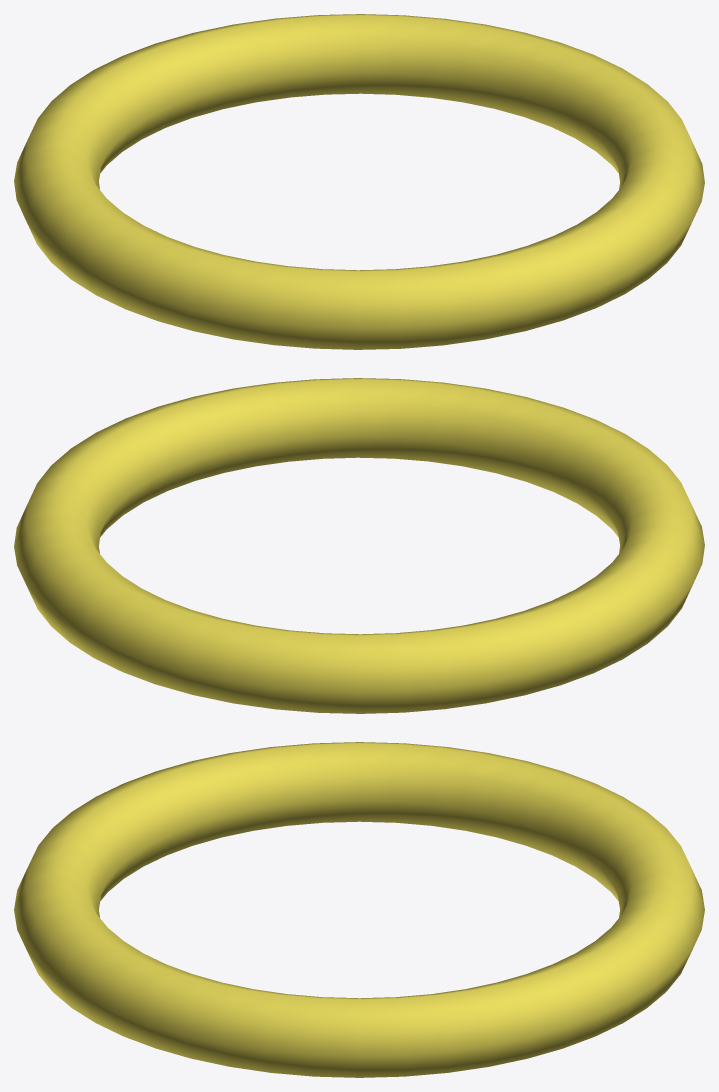
The model's file is Stun Ring.fbx.
3 renders of one model, top to bottom at view 1: azimuth 30°, elevation 25°; view 2: azimuth 150°, elevation 25°; view 3: azimuth 270°, elevation 25°, orthographic.
Parts seen in each view (by area): view 1: BezierCircle; view 2: BezierCircle; view 3: BezierCircle.
Boxes of the visible parts, x1,y1,x2,y2 form: BezierCircle: (14,14,704,349); BezierCircle: (14,378,704,713); BezierCircle: (14,742,704,1077).
Bounding box in the file's own units: 228 × 28 × 228.
